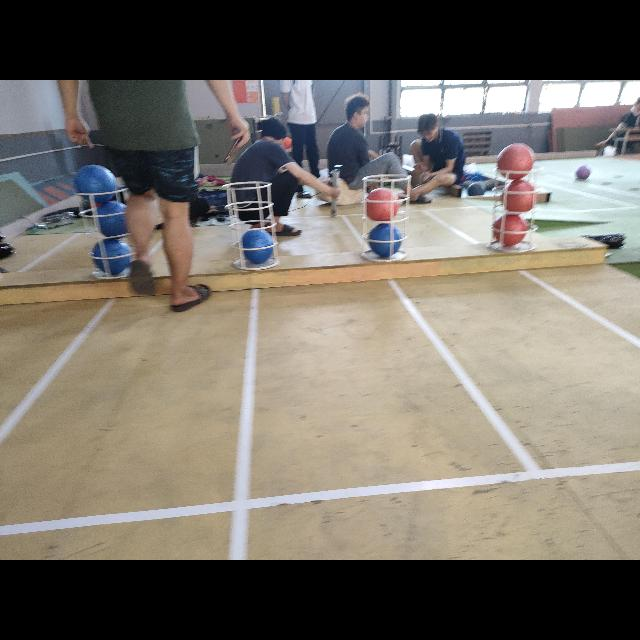B: (74, 163, 118, 205), (92, 240, 130, 278), (238, 228, 274, 264), (96, 199, 130, 237), (366, 222, 400, 256)
R: (496, 142, 536, 180), (364, 188, 400, 222), (500, 183, 538, 215), (490, 214, 528, 246)
